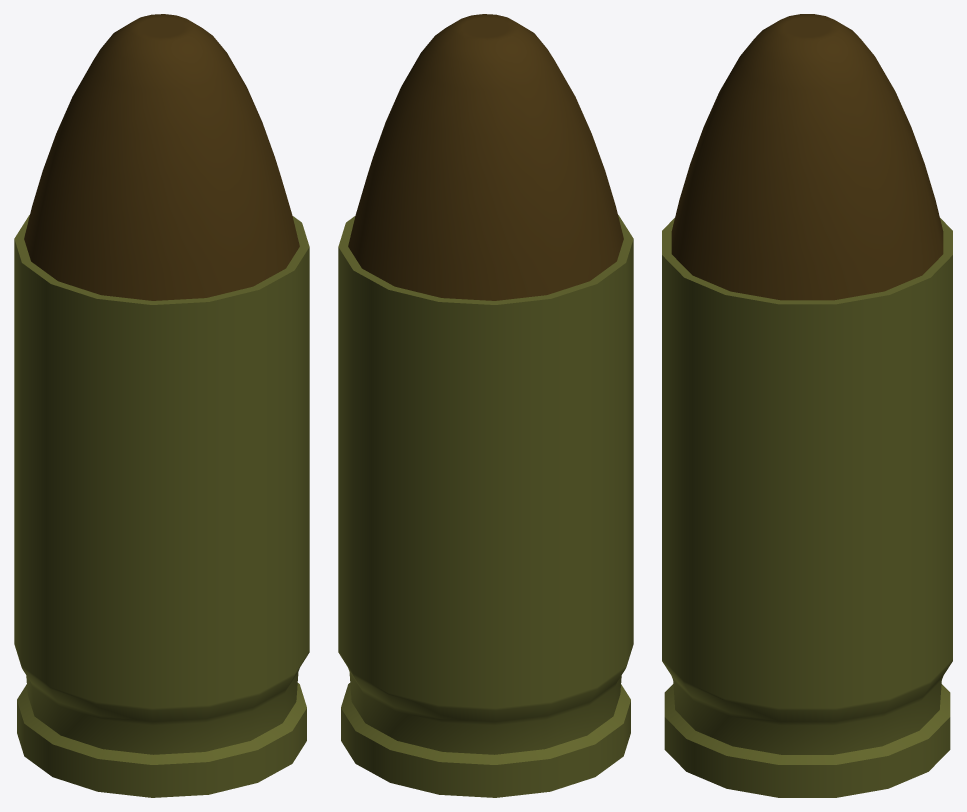
The model's file is Bala visua.fbx.
The picture shows the model from 3 angles, left to right: view 1: azimuth 30°, elevation 25°; view 2: azimuth 150°, elevation 25°; view 3: azimuth 270°, elevation 25°; orthographic projection.
Parts seen in each view (by area): view 1: Cylinder, Cylinder.001; view 2: Cylinder, Cylinder.001; view 3: Cylinder, Cylinder.001.
Boxes of the visible parts, bbox=[...] form: Cylinder: bbox=[14, 215, 309, 797]; Cylinder.001: bbox=[24, 14, 299, 300]; Cylinder: bbox=[338, 215, 633, 797]; Cylinder.001: bbox=[348, 14, 623, 300]; Cylinder: bbox=[662, 218, 952, 797]; Cylinder.001: bbox=[671, 14, 943, 300].
Bounding box in the file's own units: 200 × 538 × 200.
